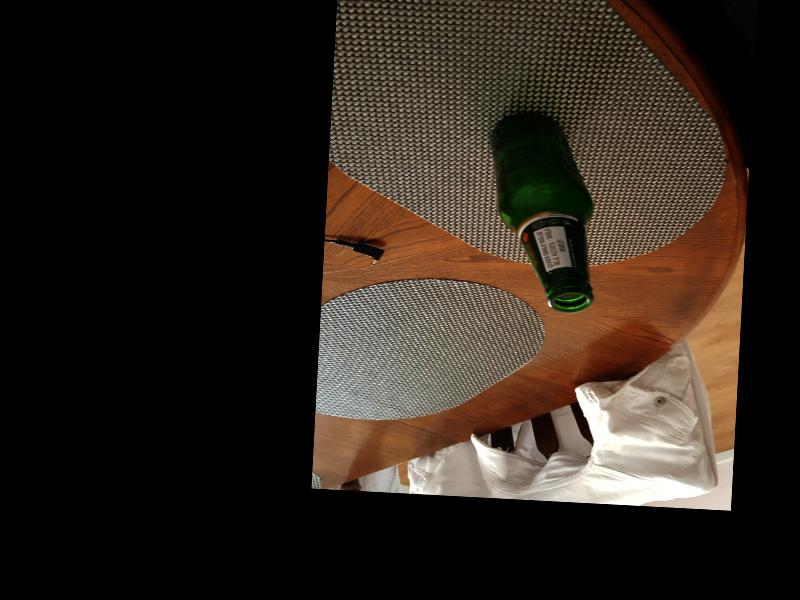Beer: (481, 111, 594, 310)
